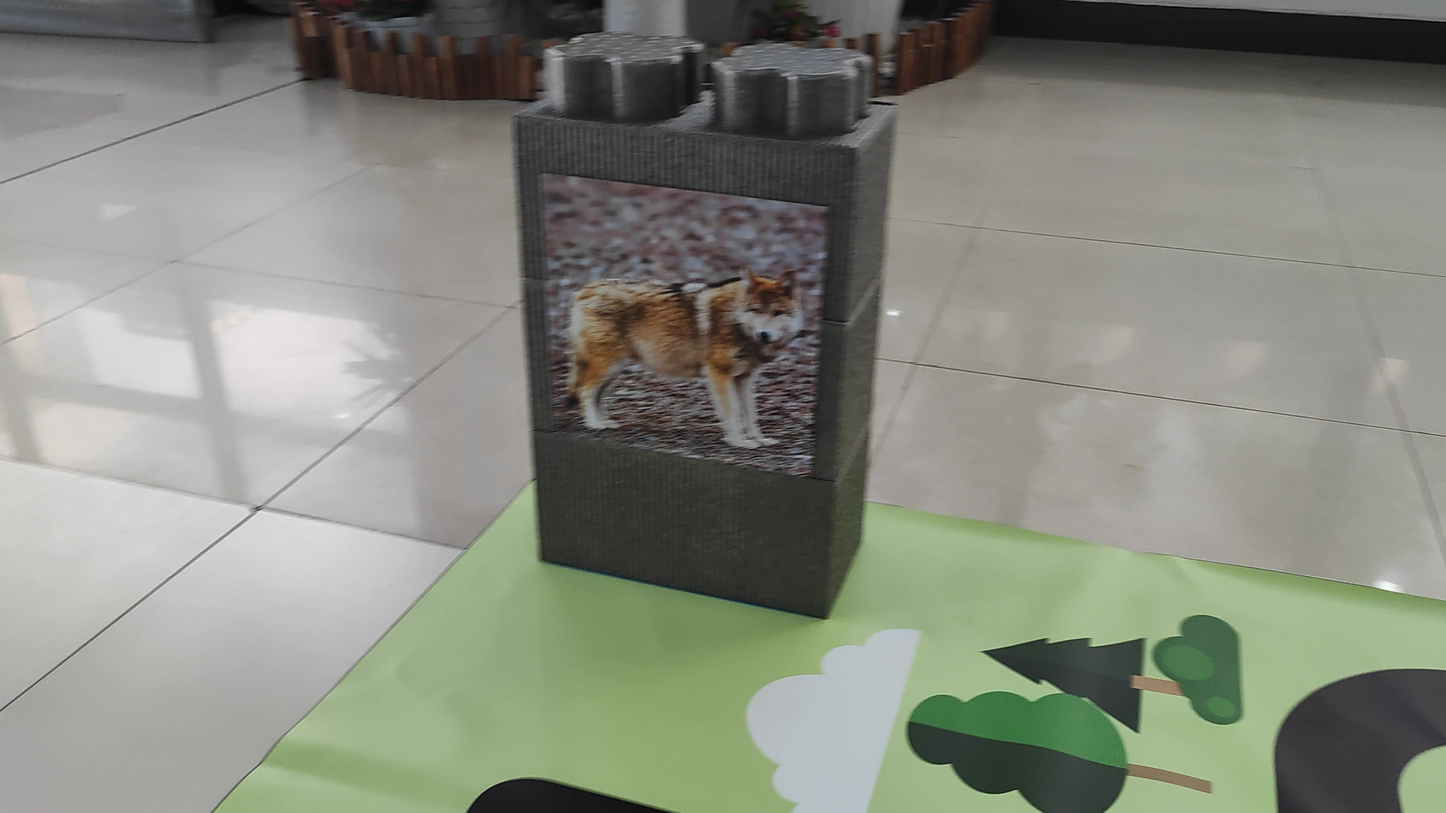wolf: (548, 193, 811, 456)
